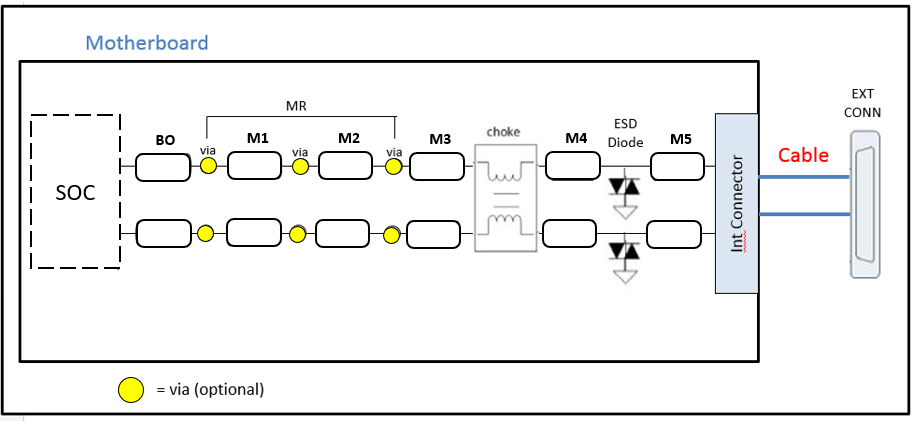circle: (380, 220, 402, 245), (198, 155, 217, 175), (196, 223, 215, 243), (292, 155, 311, 175), (288, 224, 307, 244), (384, 156, 403, 176)
dotted_rectangle: (24, 106, 125, 275)
oval: (131, 148, 196, 186), (132, 215, 197, 253), (219, 214, 284, 252), (222, 145, 287, 183), (311, 145, 376, 183), (313, 215, 378, 253), (405, 148, 470, 186), (402, 213, 467, 251), (543, 147, 602, 184), (540, 213, 599, 250), (648, 147, 707, 184), (645, 213, 704, 250)
rectangle: (16, 53, 769, 370), (711, 99, 760, 301)
